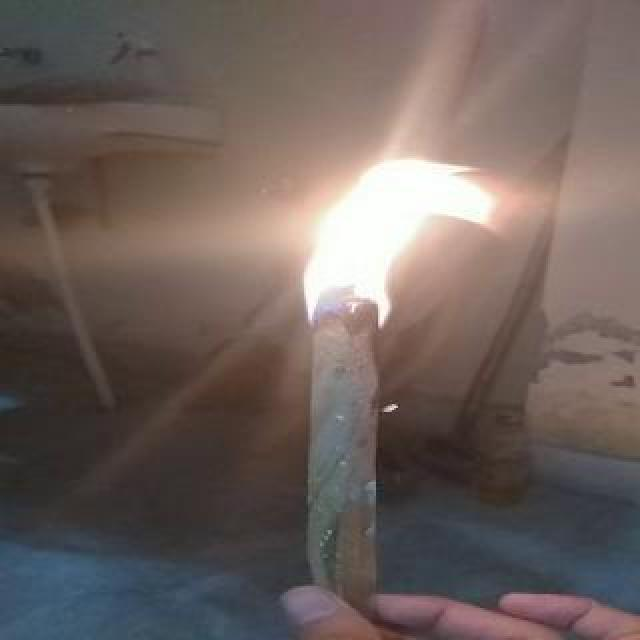Fire: (264, 156, 510, 322)
